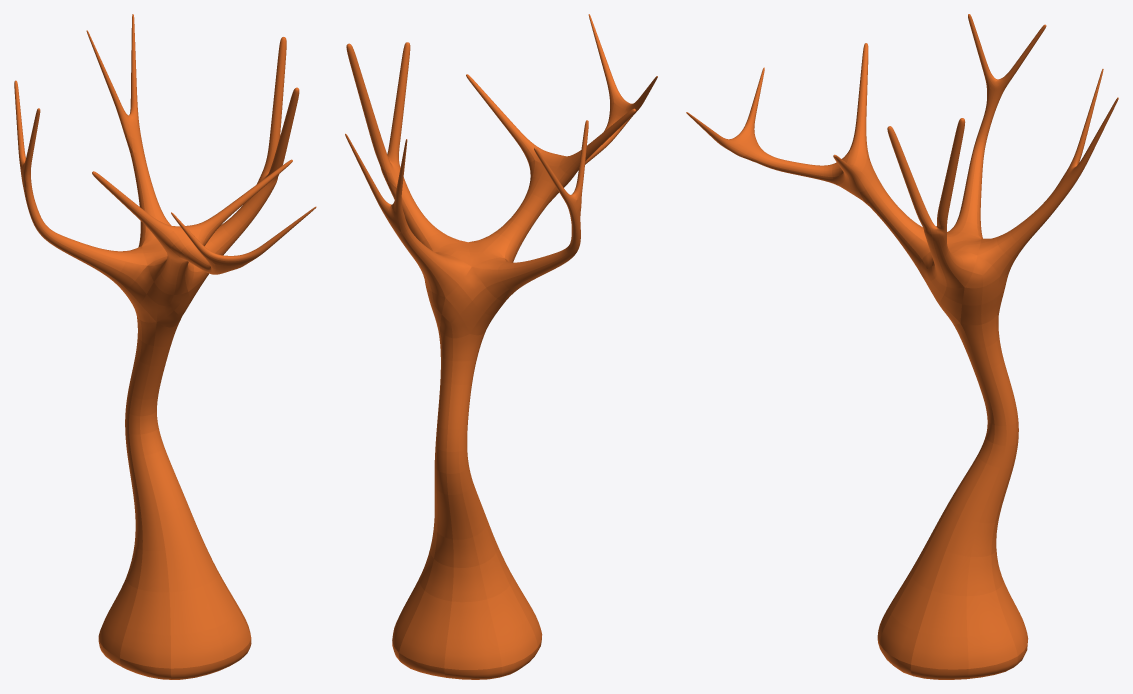
The model's file is Arvore_4morta.fbx.
The picture shows the model from 3 angles, left to right: view 1: azimuth 30°, elevation 25°; view 2: azimuth 150°, elevation 25°; view 3: azimuth 270°, elevation 25°; orthographic projection.
Parts seen in each view (by area): view 1: Vert; view 2: Vert; view 3: Vert.
Boxes of the visible parts, <box> form: Vert: <box>14,14,316,679</box>; Vert: <box>345,14,657,679</box>; Vert: <box>686,14,1118,679</box>.
Bounding box in the file's own units: 711 × 1617 × 1061.
